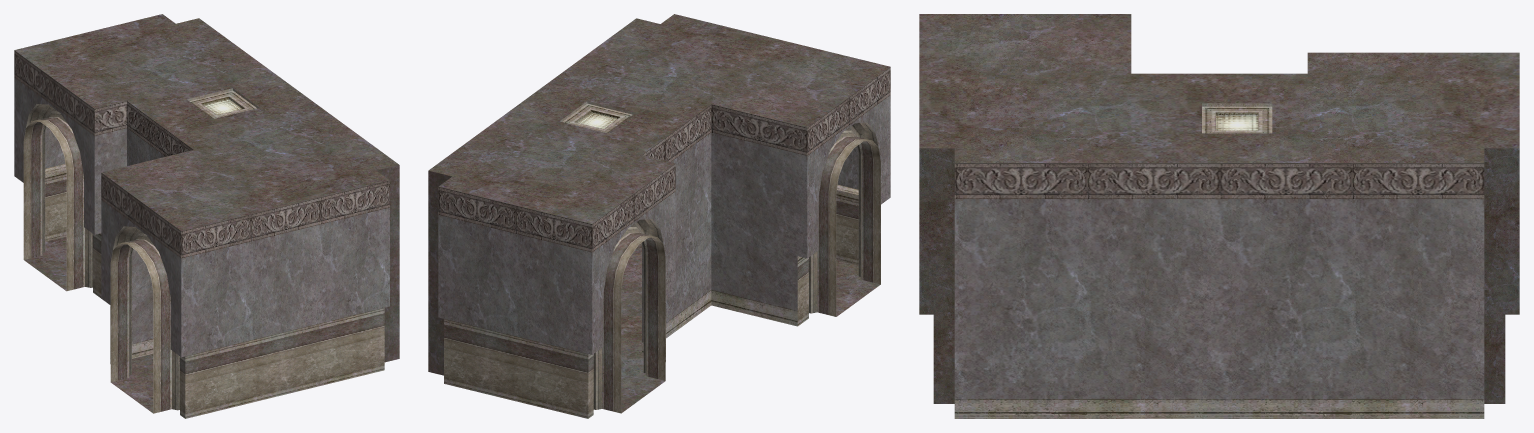
Rendered from ply_tato_capitol_s01_r2_hall2_mesh_r2.fbx.
The picture shows the model from 3 angles, left to right: view 1: azimuth 30°, elevation 25°; view 2: azimuth 150°, elevation 25°; view 3: azimuth 270°, elevation 25°; orthographic projection. The views are drawn at different scales.
Visible parts, largest first — view 1: mesh_node; view 2: mesh_node; view 3: mesh_node.
Part boxes in pixels (<box>): mesh_node: <box>14,14,399,418</box>; mesh_node: <box>428,14,890,418</box>; mesh_node: <box>919,14,1519,418</box>.
Bounding box in the file's own units: 5.2 × 4 × 8.5.
